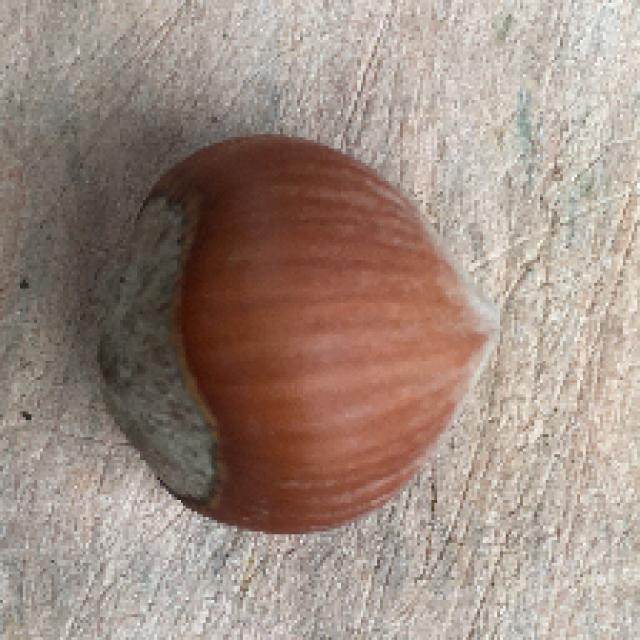qualityHazelnut: (83, 139, 507, 531)
